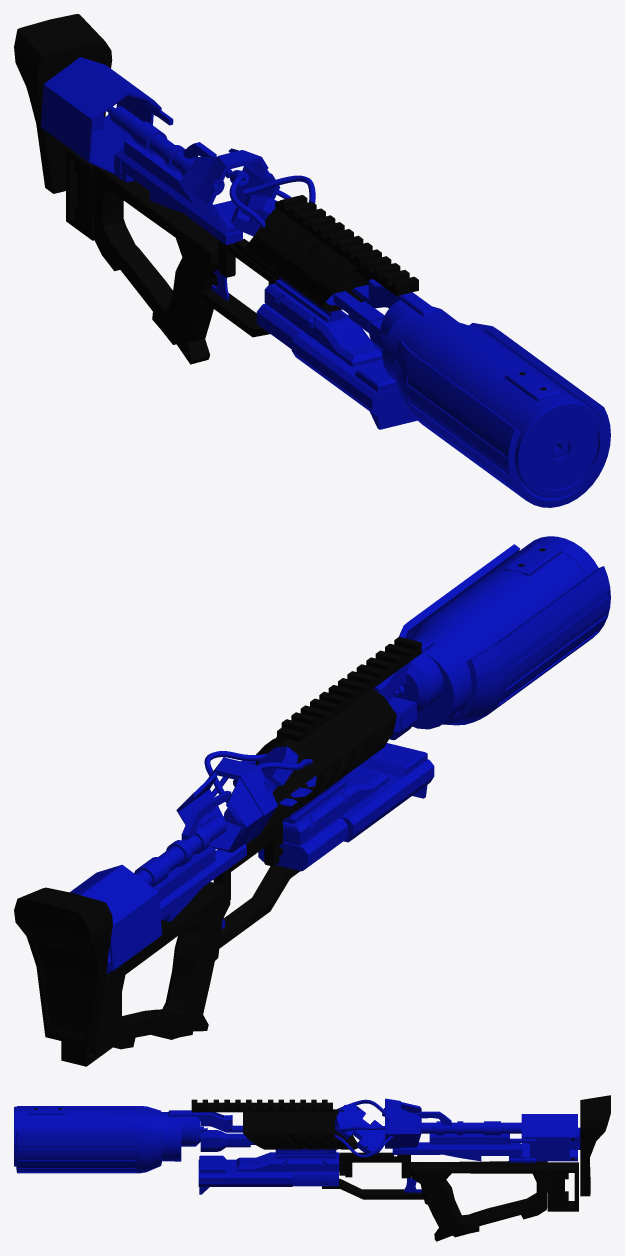
The model's file is Hitler.fbx.
The picture shows the model from 3 angles, top to bottom: view 1: azimuth 30°, elevation 25°; view 2: azimuth 150°, elevation 25°; view 3: azimuth 270°, elevation 25°; orthographic projection. The views are drawn at different scales.
Visible parts, largest first — view 1: testtt:pCube1, pPipe1, pCylinder1, testtt:pPipe1, pCylinder2, testtt:pCube10, testtt:pCylinder2, testtt:pCube16, testtt:pCube9, testtt:pPipe2, testtt:pCube18, testtt:pCube13 (+9 smaller); view 2: testtt:pCube1, pPipe1, testtt:pCube10, pCylinder1, testtt:pCylinder2, testtt:pPipe1, testtt:pPipe2, testtt:pCube9, testtt:pCube16, testtt:pCube18, testtt:pCylinder8, testtt:pCube17 (+11 smaller); view 3: pPipe1, testtt:pCube1, pCylinder1, testtt:pCylinder2, testtt:pPipe1, testtt:pCube16, testtt:pCube10, testtt:pCube9, testtt:pPipe2, testtt:pCube13, testtt:pCube18, testtt:pCube2 (+14 smaller).
Part boxes in pixels (box(x1,y1,x2,y2)): testtt:pCube1: box(93, 165, 269, 364); pPipe1: box(394, 323, 610, 507); pCylinder1: box(382, 306, 573, 425); testtt:pPipe1: box(40, 57, 161, 174); pCylinder2: box(514, 394, 606, 497); testtt:pCube10: box(14, 14, 112, 193); testtt:pCylinder2: box(243, 208, 372, 311); testtt:pCube16: box(291, 332, 417, 429); testtt:pCube9: box(275, 195, 418, 295); testtt:pPipe2: box(179, 148, 280, 233); testtt:pCube18: box(264, 283, 382, 366); testtt:pCube13: box(114, 147, 242, 244); testtt:pCube1: box(108, 865, 300, 1049); pPipe1: box(399, 544, 610, 725); testtt:pCube10: box(14, 887, 112, 1047); pCylinder1: box(410, 546, 586, 729); testtt:pCylinder2: box(250, 689, 396, 820); testtt:pPipe1: box(70, 864, 161, 973); testtt:pPipe2: box(176, 757, 277, 852); testtt:pCube9: box(277, 637, 421, 742); testtt:pCube16: box(339, 743, 434, 842); testtt:pCube18: box(283, 767, 388, 845); testtt:pCylinder8: box(134, 815, 226, 887); testtt:pCube17: box(258, 817, 347, 871); pPipe1: box(16, 1106, 161, 1173); testtt:pCube1: box(322, 1161, 547, 1241); pCylinder1: box(28, 1107, 181, 1161); testtt:pCylinder2: box(243, 1109, 357, 1149); testtt:pPipe1: box(521, 1114, 577, 1161); testtt:pCube16: box(198, 1155, 292, 1194); testtt:pCube10: box(580, 1095, 610, 1196); testtt:pCube9: box(191, 1099, 332, 1112); testtt:pPipe2: box(385, 1098, 421, 1148); testtt:pCube13: box(392, 1142, 522, 1161); testtt:pCube18: box(236, 1152, 339, 1171); testtt:pCube2: box(547, 1162, 578, 1211).
Size of the model in its own units: 13.47 by 28.22 by 112.
